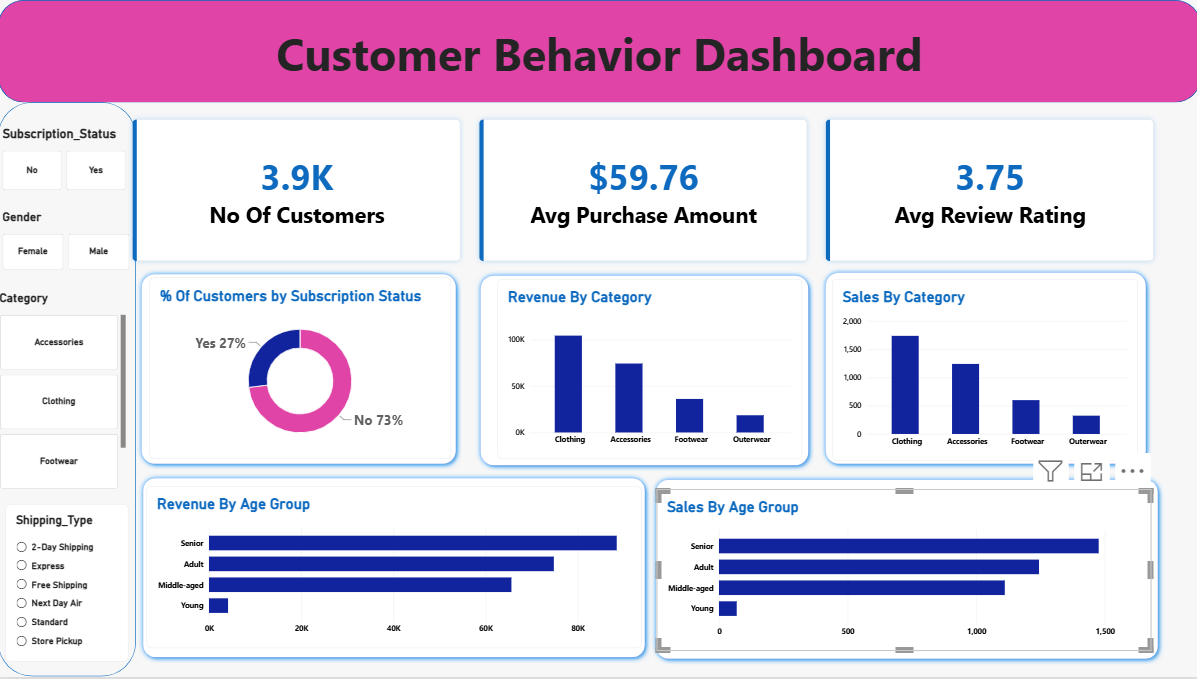

The dashboard page shown, as its layout file describes it:
{"tool":"powerbi","page":{"name":"Page 1","canvas":[1920,1080],"ordinal":0},"visuals":[{"type":"cardVisual","fields":{"Data":["customer_shopping_behaviour customer_shopping.No Of Customers","customer_shopping_behaviour customer_shopping.Avg Purchase Amount","customer_shopping_behaviour customer_shopping.Avg Review Rating"]},"box":[223,178.4,1653.6,248.9],"z":0},{"type":"shape","box":[0,0,1919.3,163.5],"z":1000},{"type":"textbox","box":[0,36.3,1919,164],"z":2000},{"type":"shape","box":[237.2,429.8,519.3,320.7],"z":3000},{"type":"donutChart","title":"% Of Customers by Subscription Status","fields":{"Category":["customer_shopping_behaviour customer_shopping.subscription_status"],"Y":["CountNonNull(customer_shopping_behaviour customer_shopping.customer_id)"]},"box":[255.5,442,481,289.6],"z":4000},{"type":"shape","box":[770.5,431.9,540.8,320.7],"z":5000},{"type":"shape","box":[1330.1,427.8,547.4,310.2],"z":6000},{"type":"clusteredColumnChart","title":"Revenue By Category","fields":{"Category":["customer_shopping_behaviour customer_shopping.category"],"Y":["Sum(customer_shopping_behaviour customer_shopping.purchase_amount)"]},"box":[796.9,445.1,485.8,287.2],"z":7000},{"type":"clusteredColumnChart","title":"Sales By Category","fields":{"Category":["customer_shopping_behaviour customer_shopping.category"],"Y":["CountNonNull(customer_shopping_behaviour customer_shopping.customer_id)"]},"box":[1350.4,448.1,508.9,267.6],"z":8000},{"type":"shape","box":[0,164.2,223,896.2],"z":9000},{"type":"advancedSlicerVisual","title":"Subscription_Status","fields":{"Values":["customer_shopping_behaviour customer_shopping.subscription_status"]},"box":[7.2,201,196.2,102.9],"z":10000},{"type":"advancedSlicerVisual","title":"Gender","fields":{"Values":["customer_shopping_behaviour customer_shopping.gender"]},"box":[7.2,335,203.4,95.7],"z":11000},{"type":"advancedSlicerVisual","title":"Category","fields":{"Values":["customer_shopping_behaviour customer_shopping.category"]},"box":[12.2,464.3,201,315.9],"z":12000},{"type":"listSlicer","title":"Shipping_Type","fields":{"Values":["customer_shopping_behaviour customer_shopping.shipping_type"]},"box":[12.2,786.7,196.2,251.3],"z":13000},{"type":"shape","box":[1040.1,756.3,837.4,304.1],"z":14000},{"type":"shape","box":[222.6,753.8,818.4,303.9],"z":15000},{"type":"clusteredBarChart","title":"Revenue By Age Group","fields":{"Category":["customer_shopping_behaviour customer_shopping.age_group"],"Y":["Sum(customer_shopping_behaviour customer_shopping.purchase_amount)"]},"box":[236.9,775.3,789.7,258.4],"z":16000},{"type":"clusteredBarChart","title":"Sales By Age Group","fields":{"Category":["customer_shopping_behaviour customer_shopping.age_group"],"Y":["CountNonNull(customer_shopping_behaviour customer_shopping.customer_id)"]},"box":[1050.3,780.6,809,257.5],"z":17000}]}

Visuals, with their boxes in screenshot pixels (x1, y1, x2, y2), scaled from the page's 1920x1080 canvas onto the 1197x679 screenshot:
cardVisual - customer_shopping_behaviour customer_shopping.No Of Customers x customer_shopping_behaviour customer_shopping.Avg Purchase Amount: {"x1": 139, "y1": 112, "x2": 1170, "y2": 269}
shape: {"x1": 0, "y1": 0, "x2": 1196, "y2": 103}
textbox: {"x1": 0, "y1": 23, "x2": 1196, "y2": 126}
shape: {"x1": 148, "y1": 270, "x2": 472, "y2": 472}
"% Of Customers by Subscription Status" donutChart: {"x1": 159, "y1": 278, "x2": 459, "y2": 460}
shape: {"x1": 480, "y1": 272, "x2": 818, "y2": 473}
shape: {"x1": 829, "y1": 269, "x2": 1171, "y2": 464}
"Revenue By Category" clusteredColumnChart: {"x1": 497, "y1": 280, "x2": 800, "y2": 460}
"Sales By Category" clusteredColumnChart: {"x1": 842, "y1": 282, "x2": 1159, "y2": 450}
shape: {"x1": 0, "y1": 103, "x2": 139, "y2": 667}
"Subscription_Status" advancedSlicerVisual: {"x1": 4, "y1": 126, "x2": 127, "y2": 191}
"Gender" advancedSlicerVisual: {"x1": 4, "y1": 211, "x2": 131, "y2": 271}
"Category" advancedSlicerVisual: {"x1": 8, "y1": 292, "x2": 133, "y2": 491}
"Shipping_Type" listSlicer: {"x1": 8, "y1": 495, "x2": 130, "y2": 653}
shape: {"x1": 648, "y1": 475, "x2": 1171, "y2": 667}
shape: {"x1": 139, "y1": 474, "x2": 649, "y2": 665}
"Revenue By Age Group" clusteredBarChart: {"x1": 148, "y1": 487, "x2": 640, "y2": 650}
"Sales By Age Group" clusteredBarChart: {"x1": 655, "y1": 491, "x2": 1159, "y2": 653}
